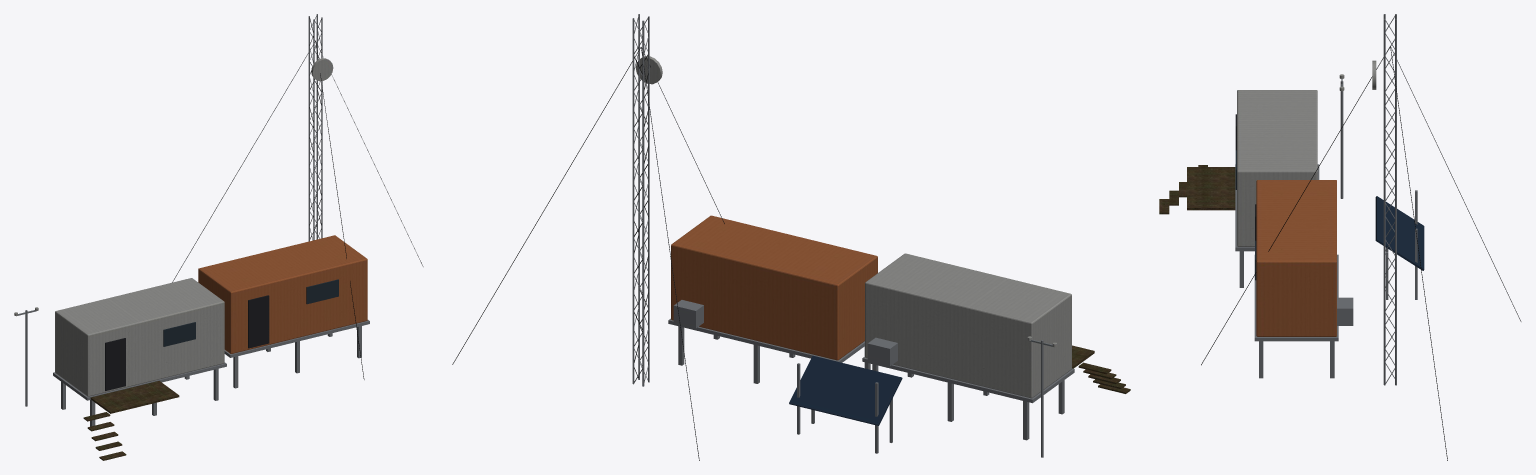
File: research_station.glb
The picture shows the model from 3 angles, left to right: view 1: azimuth 30°, elevation 25°; view 2: azimuth 150°, elevation 25°; view 3: azimuth 270°, elevation 25°; orthographic projection. The views are drawn at different scales.
Visible parts, largest first — view 1: research_station; view 2: research_station; view 3: research_station.
Boxes of the visible parts, x1=… form: research_station: x1=14, y1=14, x2=423, y2=460; research_station: x1=452, y1=14, x2=1130, y2=460; research_station: x1=1159, y1=14, x2=1521, y2=460.
Bounding box in the file's own units: 19.76 × 12.53 × 11.21.
Materials: 1 (1 with a texture image).
